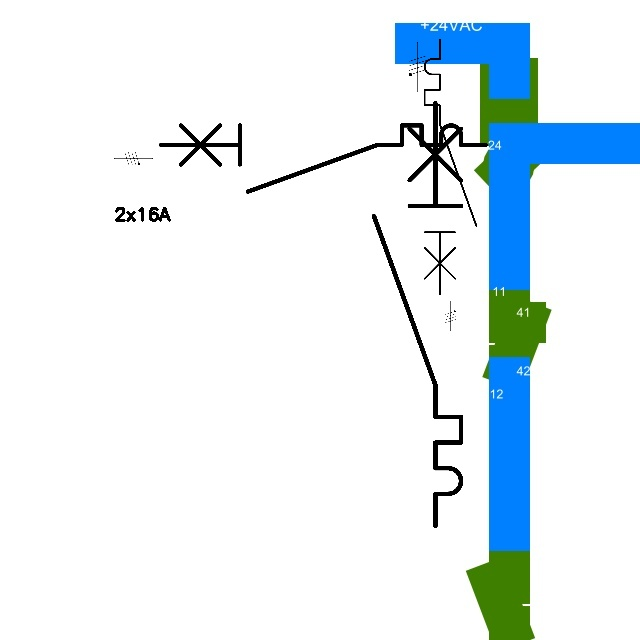interruptor_termomagnetico: (363, 92, 472, 537), (152, 117, 493, 200), (418, 33, 483, 300)
